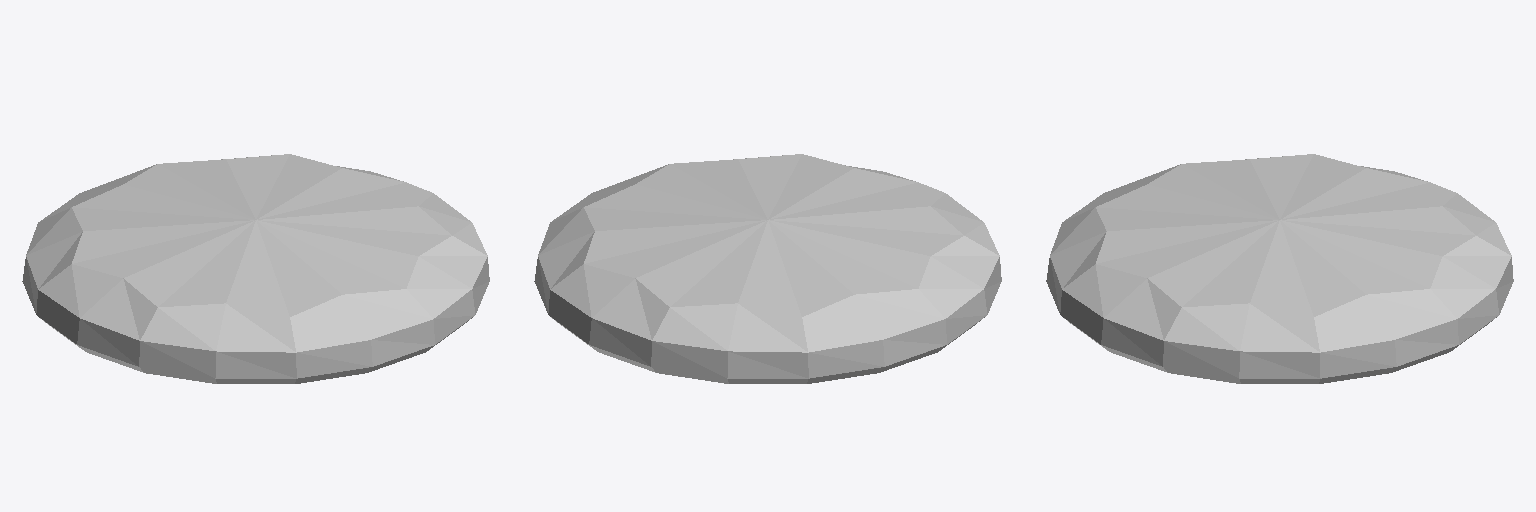
File: Luz.obj
3 views of the same model, side by side, from view 1: azimuth 30°, elevation 25°; view 2: azimuth 150°, elevation 25°; view 3: azimuth 270°, elevation 25° (orthographic).
Parts seen in each view (by area): view 1: Cylinder; view 2: Cylinder; view 3: Cylinder.
Part boxes in pixels (bbox=[...]): Cylinder: bbox=[22, 154, 489, 383]; Cylinder: bbox=[534, 154, 1001, 383]; Cylinder: bbox=[1046, 154, 1513, 383].
Size of the model in its own units: 0.5316 by 0.0916 by 0.5396.